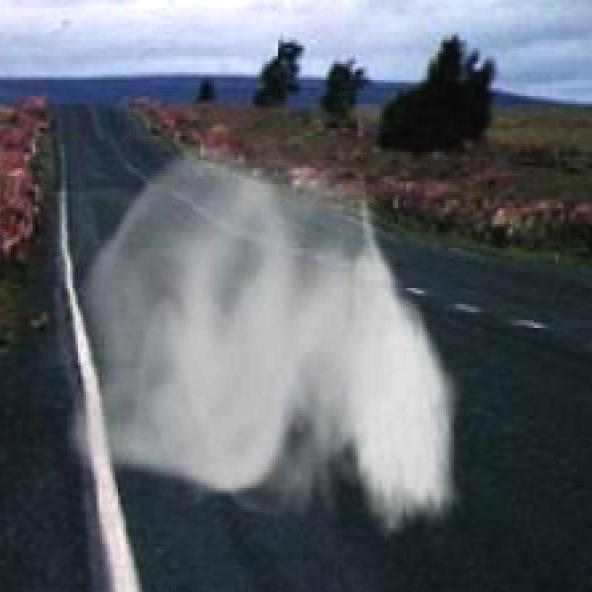smoke: (66, 135, 464, 543)
